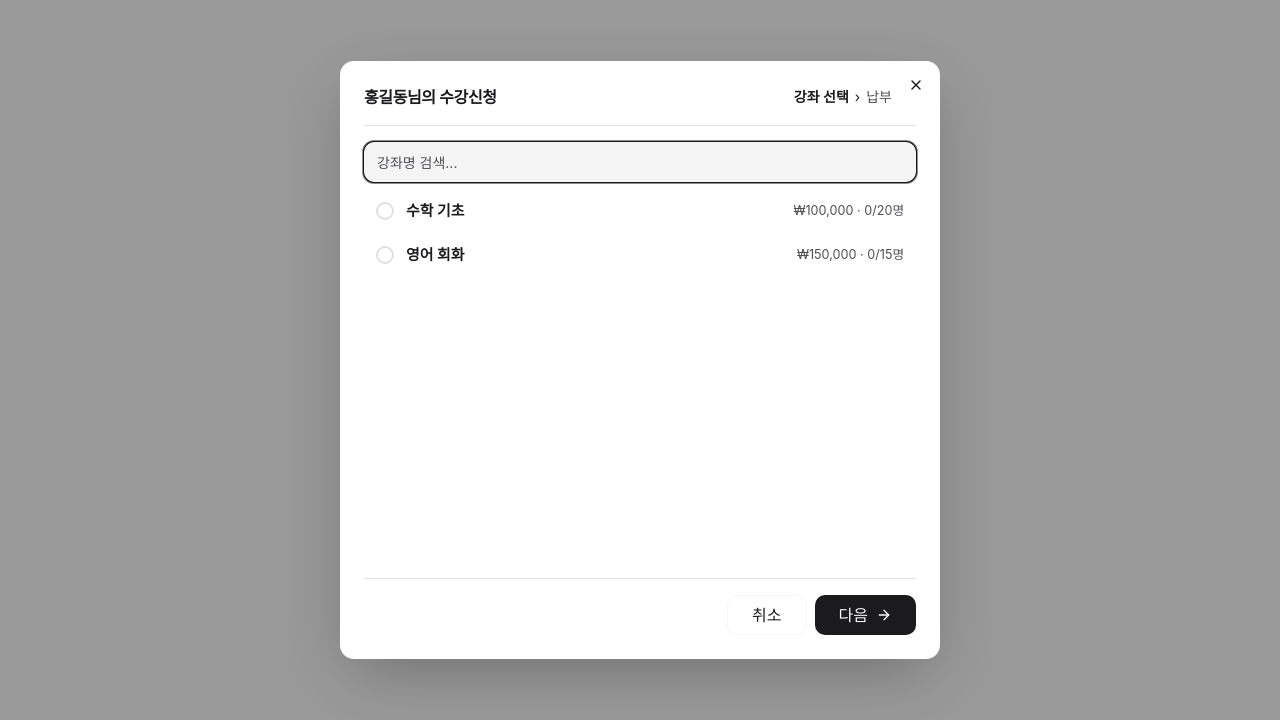
EnrollmentForm › "면제 처리" button hides payment fields
The image size is (1280, 720).
Click the button "수학 기초 ₩100,000 · 0/20명".
click(435, 211)  # box [364,190,916,232]
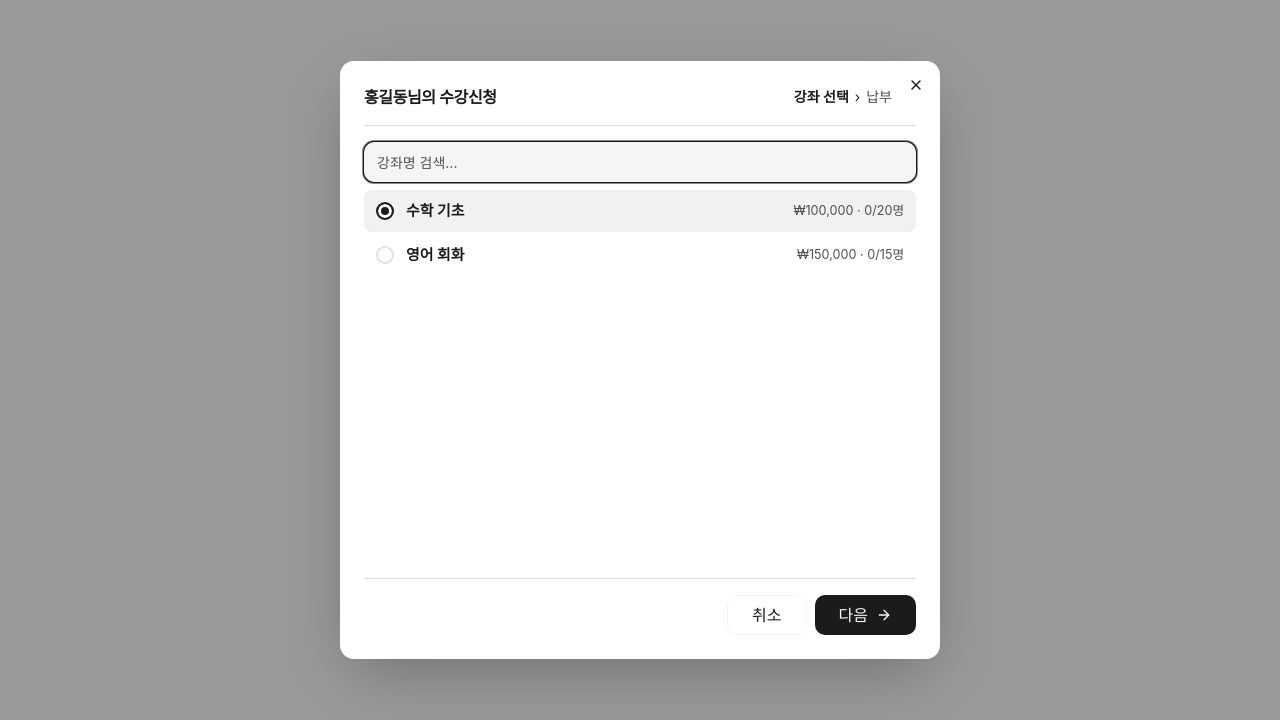
Click the button "다음".
click(865, 615)  # box [814,595,916,635]
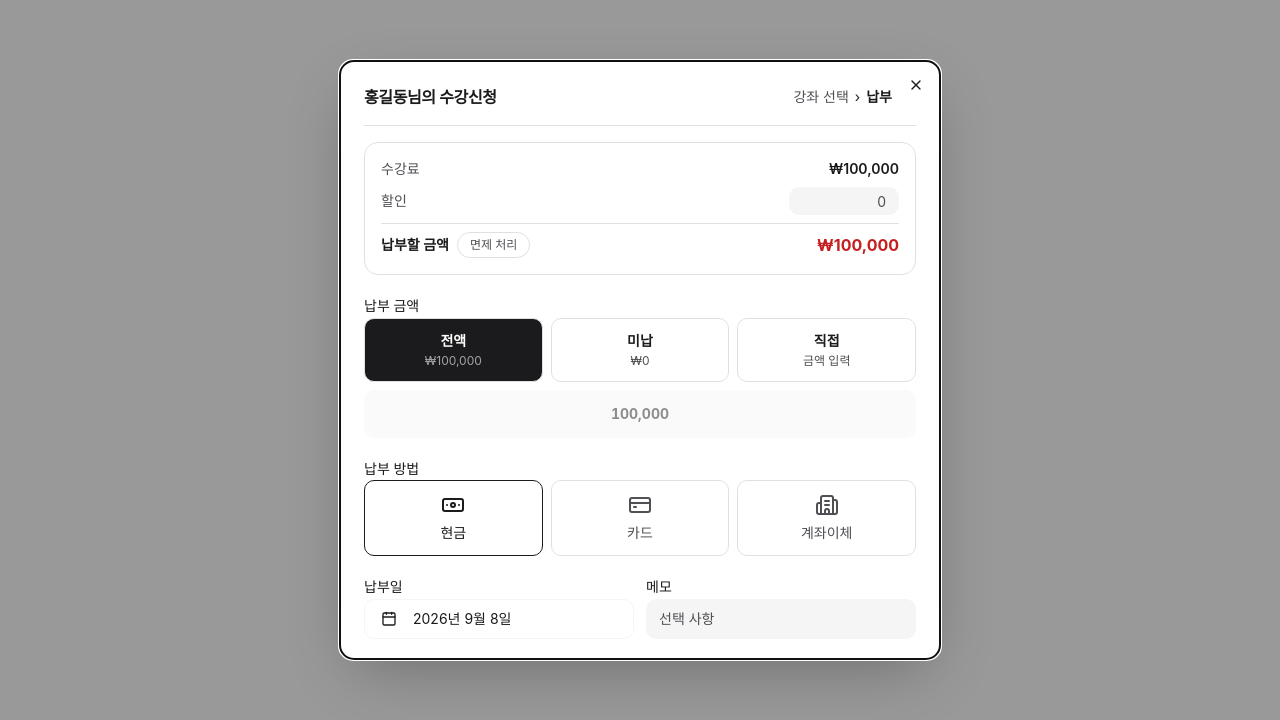
Check: the text "납부 방법" is shown, box [364,460,419,476]
Click the button "면제 처리".
click(494, 245)  # box [457,232,530,258]
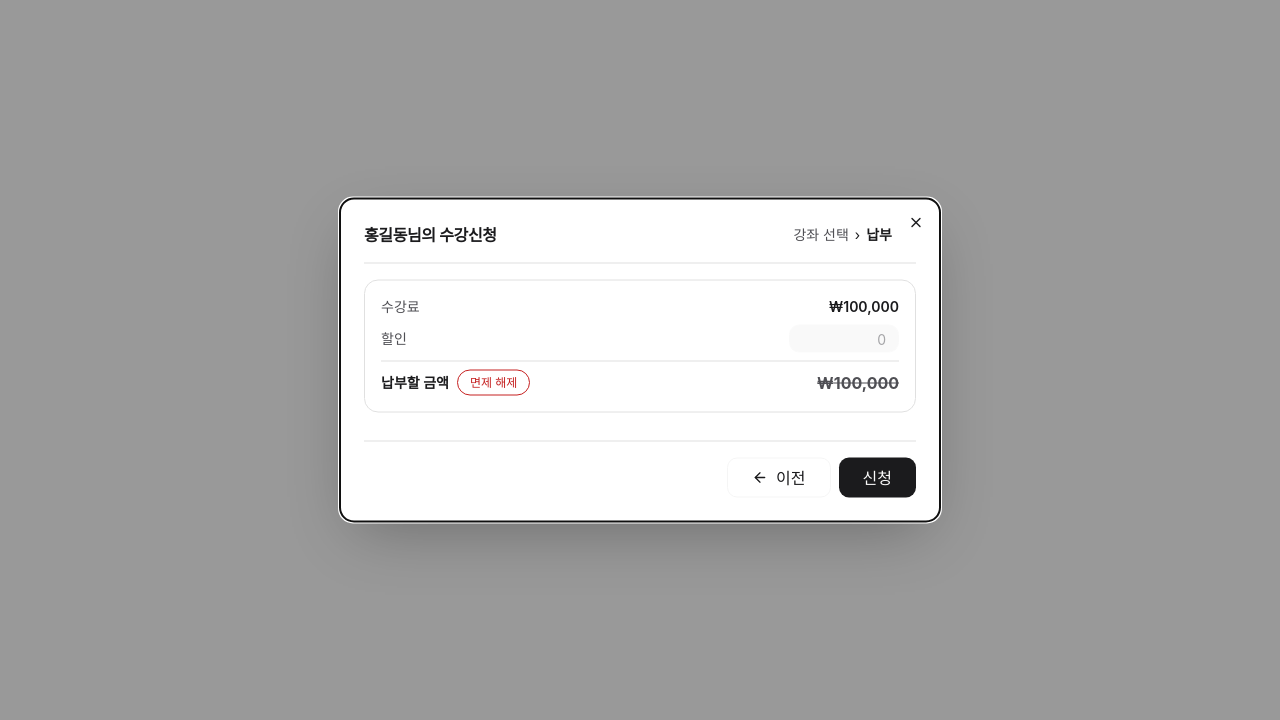
Check: the button "면제 해제" is shown, box [457,370,530,396]
Check: the text "납부 방법" is gone
